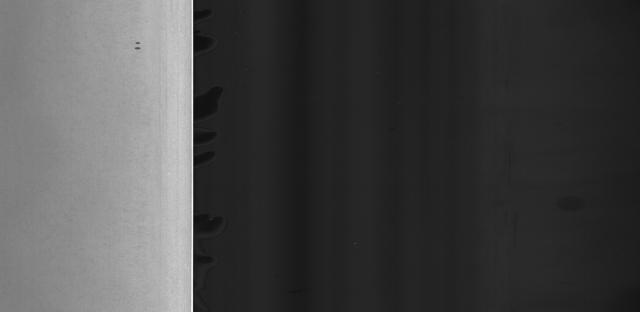oil_spot: (128, 37, 150, 53)
